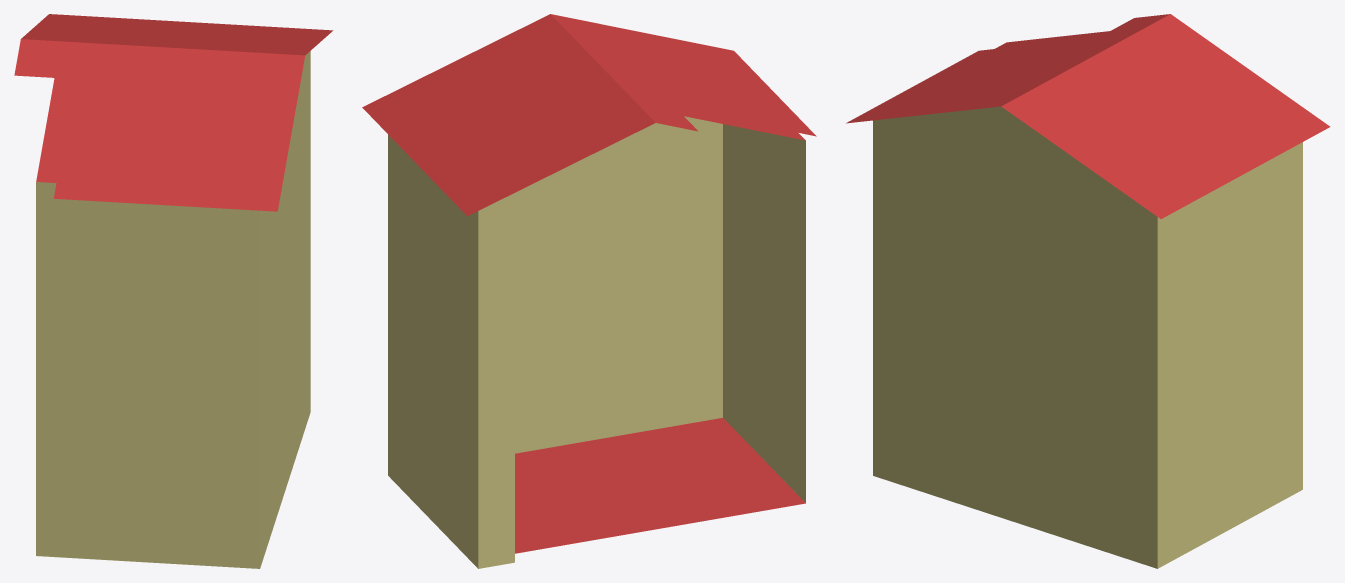
3 renders of one model, left to right at view 1: azimuth 30°, elevation 25°; view 2: azimuth 150°, elevation 25°; view 3: azimuth 270°, elevation 25°, orthographic. The views are drawn at different scales.
Bounding box in the file's own units: 10.61 × 12.25 × 11.75.
